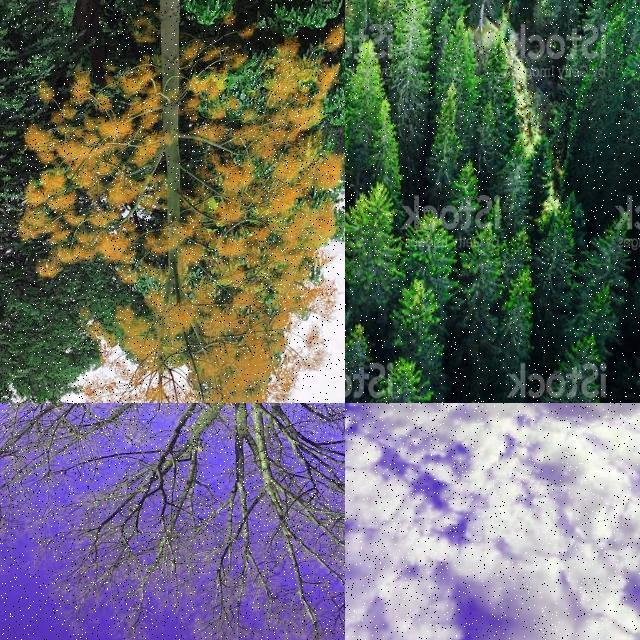tree: (15, 1, 345, 403), (0, 403, 344, 640), (0, 1, 122, 403), (568, 205, 628, 402), (566, 22, 624, 194), (388, 264, 448, 404), (345, 74, 389, 262), (346, 87, 378, 340), (345, 183, 399, 325), (346, 32, 390, 192), (476, 19, 516, 194), (456, 222, 496, 394), (390, 0, 430, 162), (345, 63, 383, 229), (531, 178, 573, 318), (602, 37, 640, 187), (466, 0, 514, 118), (404, 204, 456, 312), (345, 305, 399, 403), (345, 170, 373, 342), (498, 268, 534, 399), (428, 70, 464, 198), (345, 0, 377, 136), (344, 0, 372, 148), (345, 0, 375, 114), (344, 329, 388, 403), (434, 0, 474, 74), (448, 159, 484, 241), (344, 1, 376, 88), (372, 353, 426, 402), (345, 214, 365, 346), (346, 321, 374, 403), (515, 0, 547, 70), (429, 0, 467, 52), (550, 0, 582, 60), (344, 0, 364, 92), (584, 0, 620, 46), (416, 0, 456, 36), (566, 0, 590, 34), (608, 0, 634, 28), (549, 1, 571, 32), (586, 1, 602, 32), (442, 396, 498, 404), (626, 0, 640, 30)
